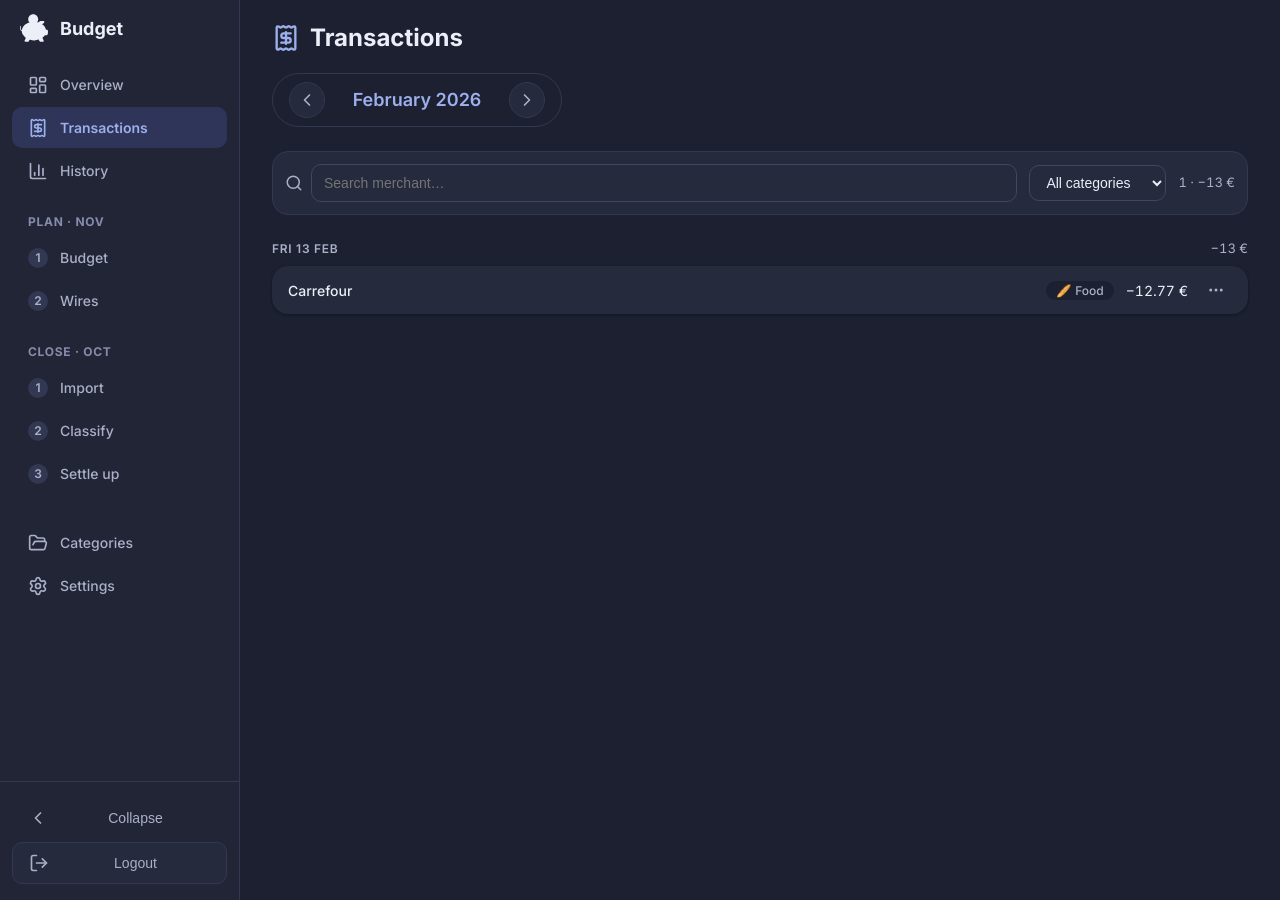
Test case: Transactions Page › should update the merchant rule by default when changing the category chip
Click the button with aria-label "Change category of Carrefour".
click(1080, 290)  # box [1046, 281, 1114, 300]
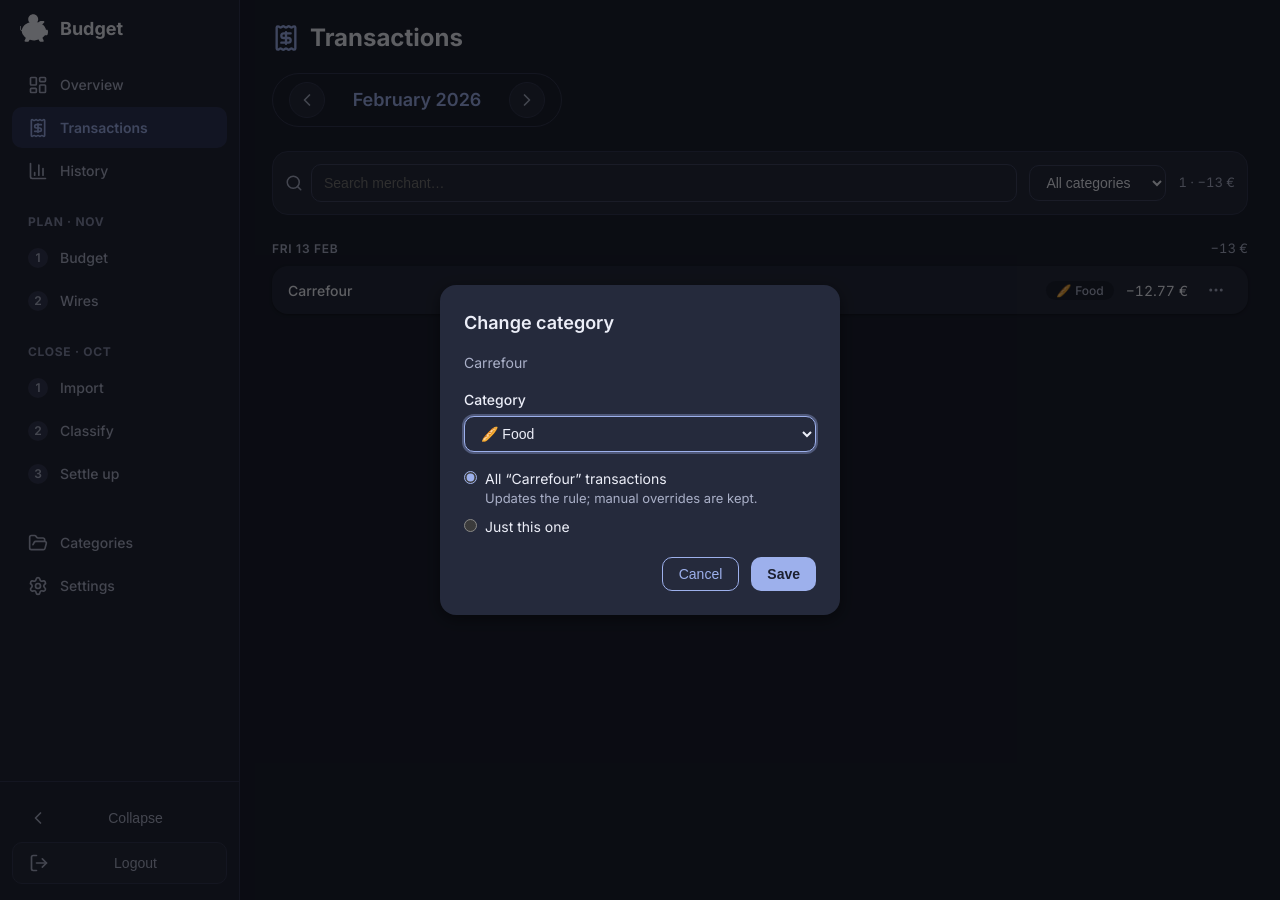
Select "Leisure" in the dropdown at (640, 434), box [464, 416, 816, 452]
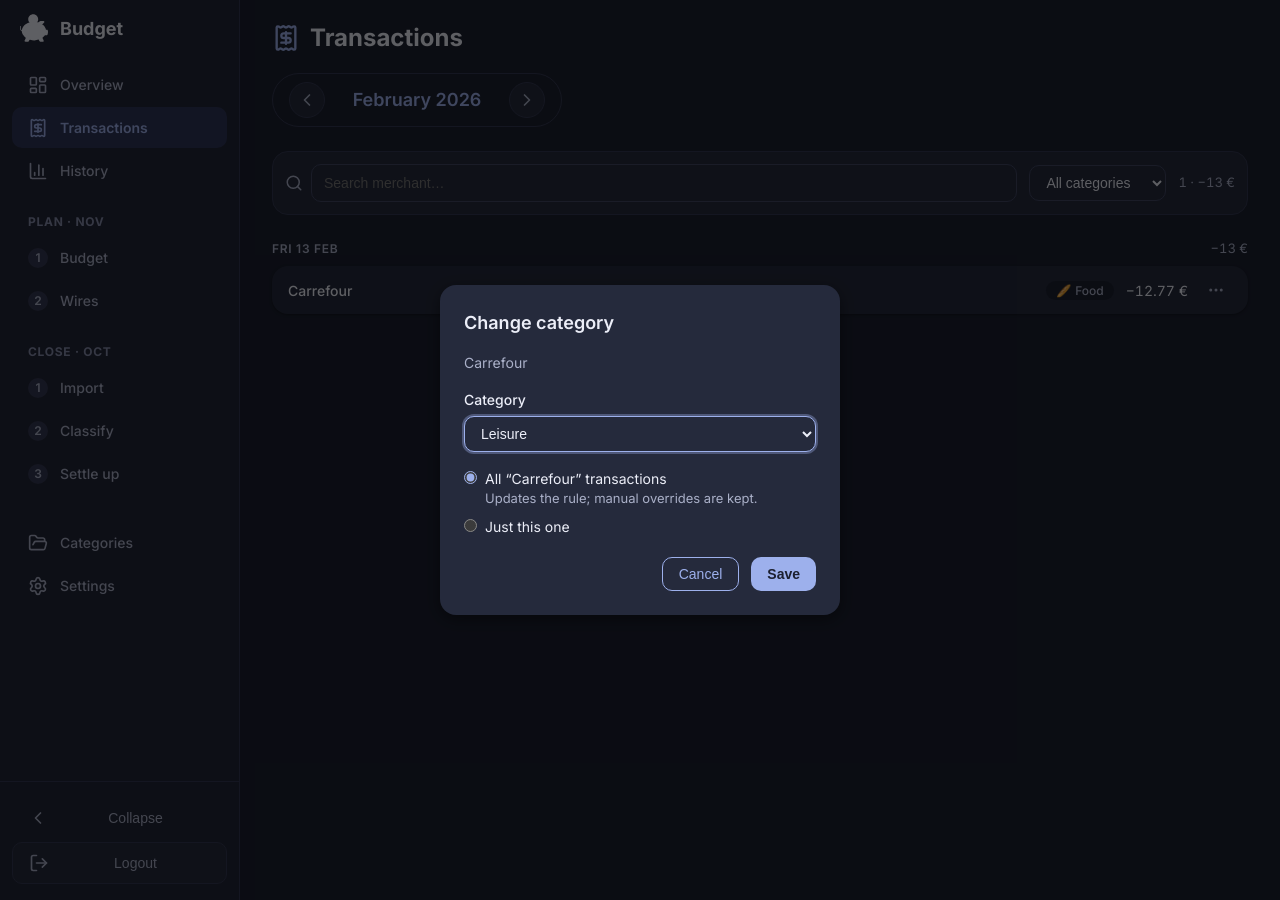
Check: the radio button labelled "All “Carrefour” transactions" is checked, box [464, 471, 477, 484]
Click the button "Save".
click(784, 574)  # box [751, 557, 816, 591]
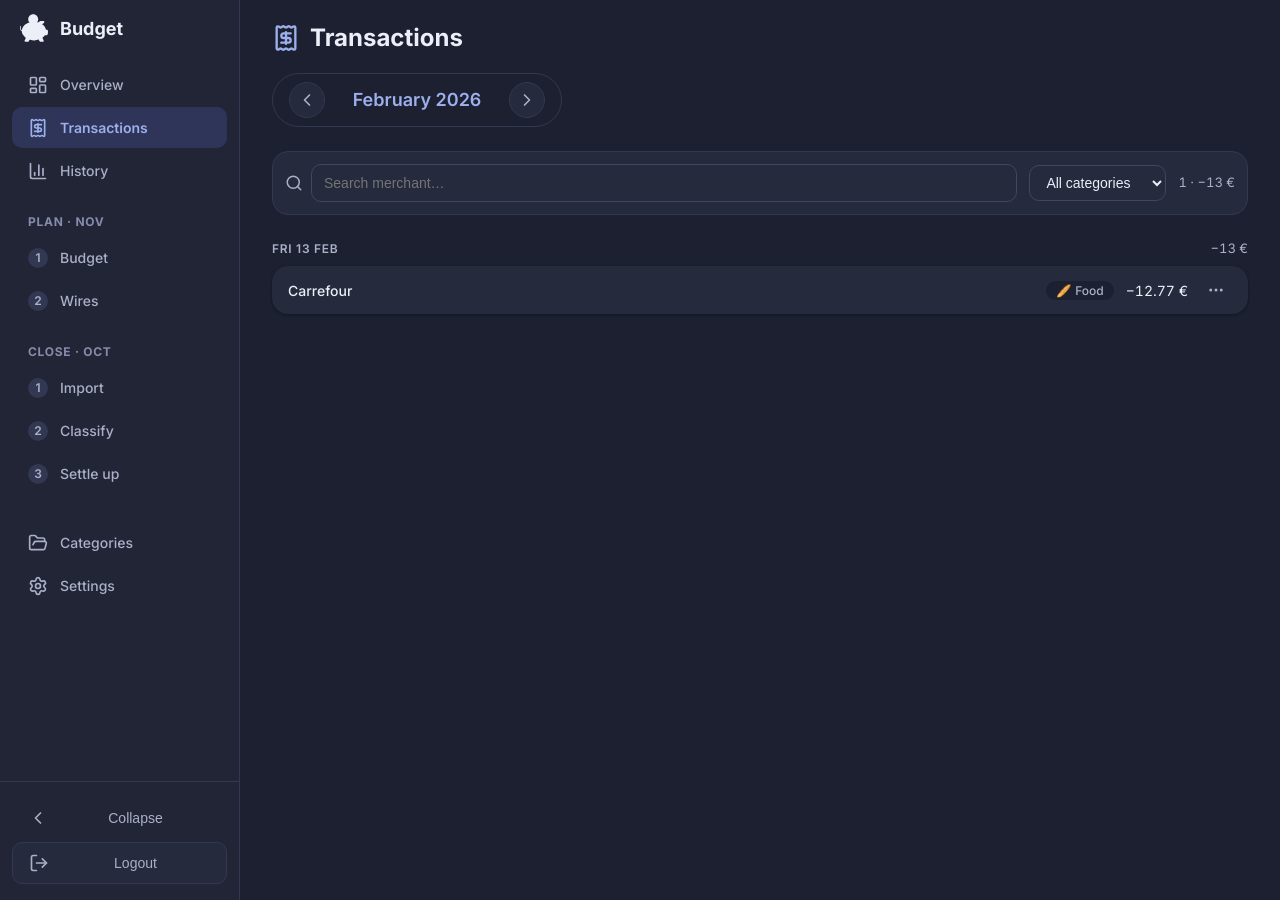
Check: the text "Carrefour" is shown, box [288, 282, 352, 299]
Check: the heading "Change category" is gone
